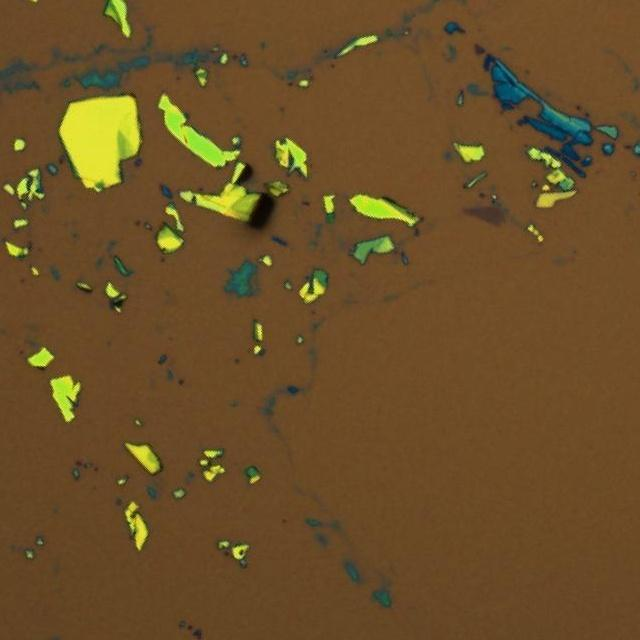monolayer-eWW4: (464, 204, 506, 227)
